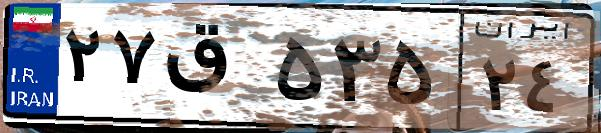2: (57, 26, 110, 100), (475, 38, 525, 113)
3: (330, 28, 385, 110)
4: (525, 38, 570, 115)
5: (270, 28, 330, 110), (385, 28, 445, 110)
7: (110, 28, 158, 98)
ق: (158, 20, 270, 120)
